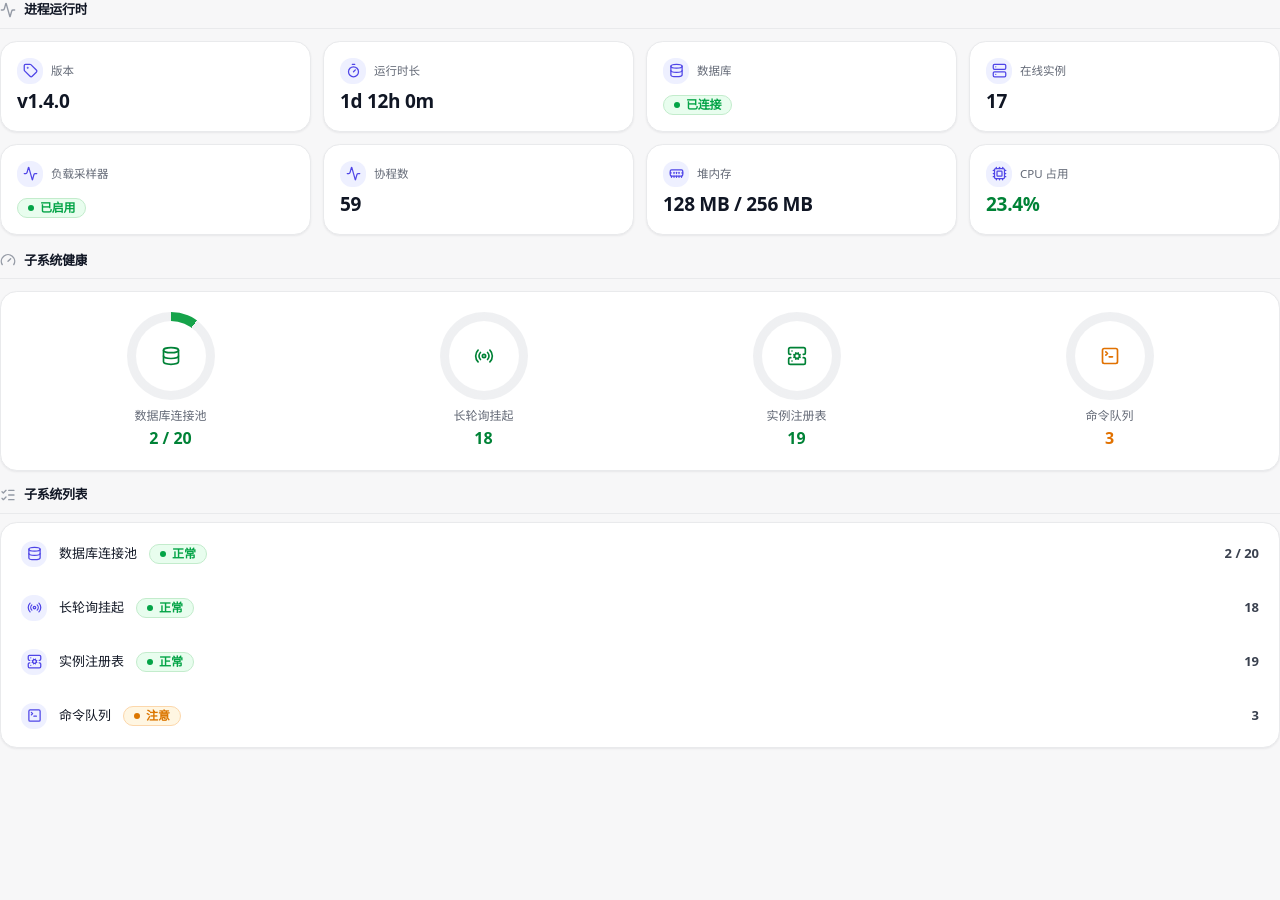
Test case: /system 控制面健康页 › 点击子系统行展开非模态明细面板（不产生遮罩）
This screenshot has width=1280, height=900.
Expected: the text "子系统列表" is shown, [24, 485, 87, 504]
Expected: the text "连接池明细" is not shown
Note: 点「数据库连接池」子系统行（列表内为可点按钮，区别于仪表环标签）
What coordinates should you click on to do the following:
click the button "数据库连接池 正常 2 / 20"
I would click on:
 (98, 553)
Its box is [9, 530, 1271, 576].
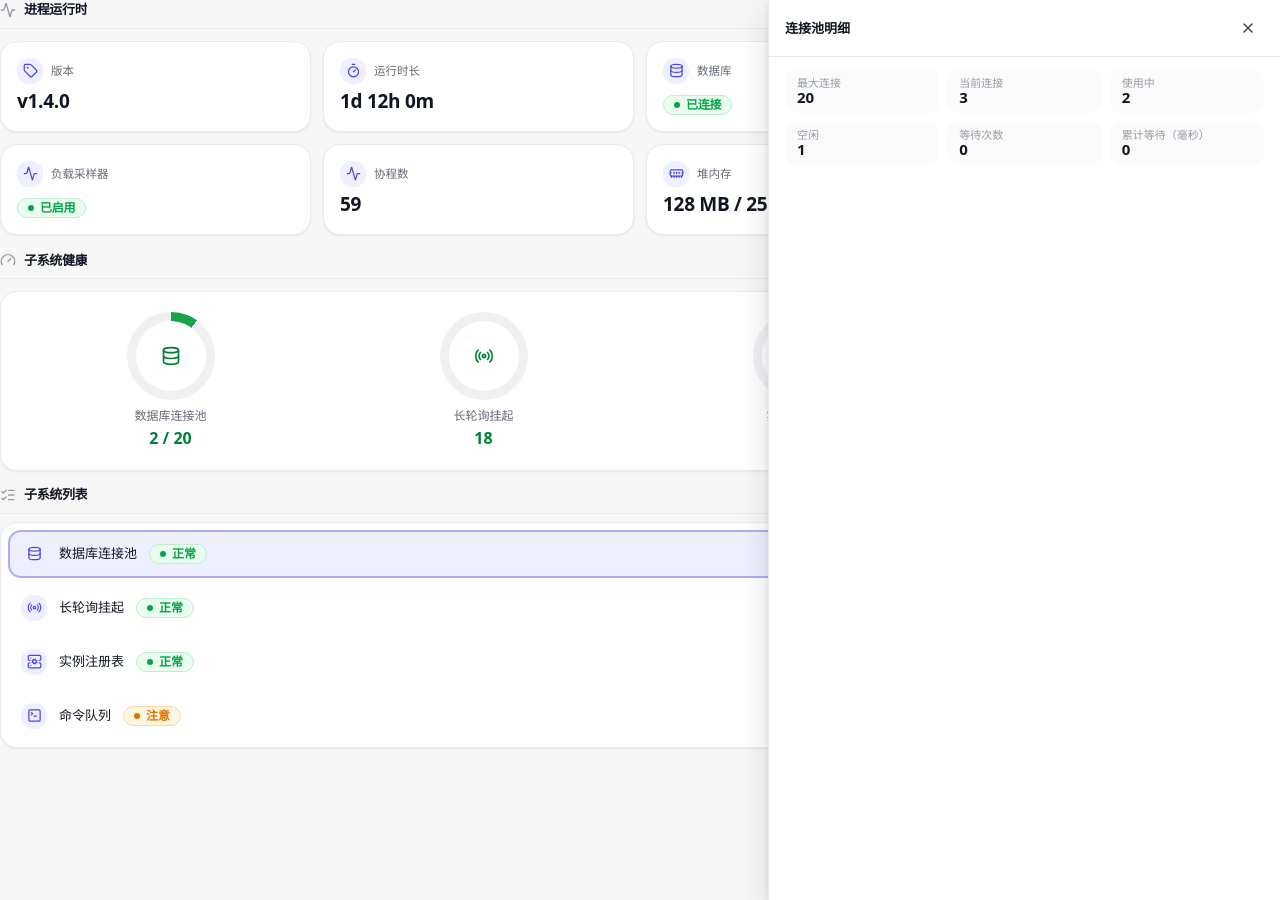
Expected: the text "连接池明细" is shown, [785, 19, 850, 37]
